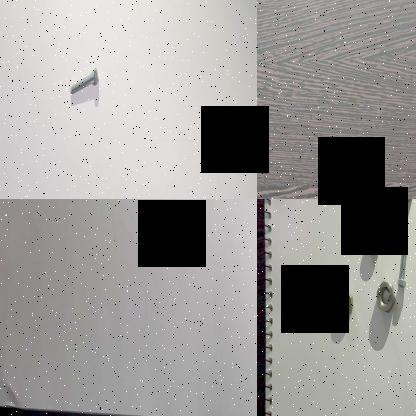Bolts: (67, 62, 100, 98), (395, 233, 411, 291), (379, 199, 401, 216)
NUTS: (374, 280, 394, 314), (336, 288, 356, 318), (364, 230, 382, 257), (397, 199, 412, 206)
